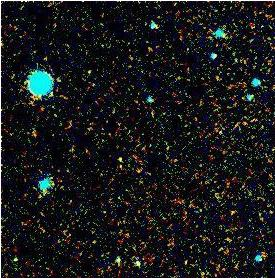star: (103, 143, 133, 173)
